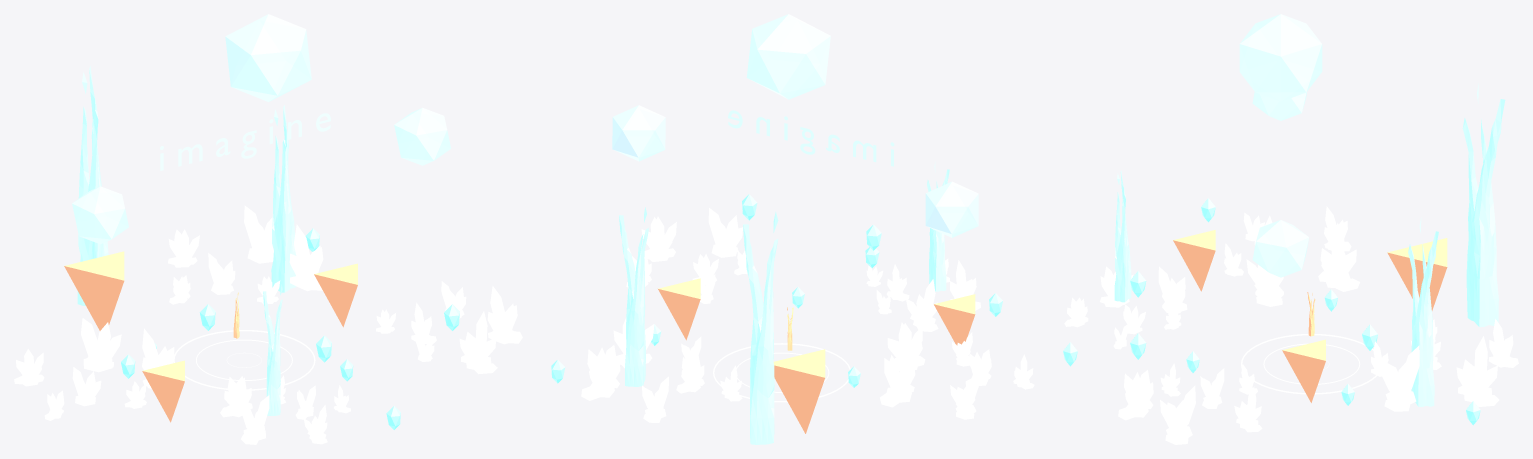
Rendered from asset.glb.
The picture shows the model from 3 angles, left to right: view 1: azimuth 30°, elevation 25°; view 2: azimuth 150°, elevation 25°; view 3: azimuth 270°, elevation 25°; orthographic projection. The views are drawn at different scales.
Parts seen in each view (by area): view 1: Icosphere.009, Icosphere.002, Icosphere.001, Icosphere.004, Icosphere.013, Cube, Cone, Icosphere.014, Icosphere.015, Cube.003, Cone.001, Cube.001 (+3 smaller); view 2: Icosphere.009, Cube.003, Icosphere.001, Icosphere.002, Icosphere.004, Cube, Icosphere.013, Cone, Icosphere.014, Icosphere.015, Cone.001, Cone.002 (+2 smaller); view 3: Icosphere.009, Cube.003, Icosphere.002, Icosphere.004, Icosphere.001, Cube, Icosphere.013, Icosphere.014, Cone, Cone.001, Cube.001, Cone.002 (+2 smaller).
Part boxes in pixels (<box>): Icosphere.009: <box>225,14,311,101</box>; Icosphere.002: <box>168,205,323,304</box>; Icosphere.001: <box>14,318,174,420</box>; Icosphere.004: <box>376,281,522,374</box>; Icosphere.013: <box>220,375,350,444</box>; Cube: <box>271,105,296,292</box>; Cone: <box>64,251,124,330</box>; Icosphere.014: <box>394,107,450,165</box>; Icosphere.015: <box>72,186,128,244</box>; Cube.003: <box>77,66,108,305</box>; Cone.001: <box>314,263,357,327</box>; Cube.001: <box>263,284,282,415</box>; Icosphere.009: <box>746,14,830,99</box>; Cube.003: <box>743,211,778,444</box>; Icosphere.001: <box>880,322,1034,419</box>; Icosphere.002: <box>581,317,742,422</box>; Icosphere.004: <box>626,208,747,303</box>; Cube: <box>619,207,648,386</box>; Icosphere.013: <box>866,258,980,331</box>; Cone: <box>773,349,825,433</box>; Icosphere.014: <box>612,105,665,161</box>; Icosphere.015: <box>925,181,978,237</box>; Cone.001: <box>658,278,700,340</box>; Cone.002: <box>934,294,975,345</box>; Icosphere.009: <box>1239,14,1322,101</box>; Cube.003: <box>1462,83,1505,327</box>; Icosphere.002: <box>1371,319,1518,411</box>; Icosphere.004: <box>1118,363,1262,444</box>; Icosphere.001: <box>1224,206,1359,306</box>; Cube: <box>1408,217,1438,406</box>; Icosphere.013: <box>1064,266,1187,349</box>; Icosphere.014: <box>1252,220,1309,277</box>; Cone: <box>1387,238,1447,310</box>; Cone.001: <box>1282,339,1325,402</box>; Cube.001: <box>1114,170,1131,302</box>; Cone.002: <box>1173,230,1215,291</box>.
Size of the model in its own units: 43.64 by 33.84 by 39.33.
